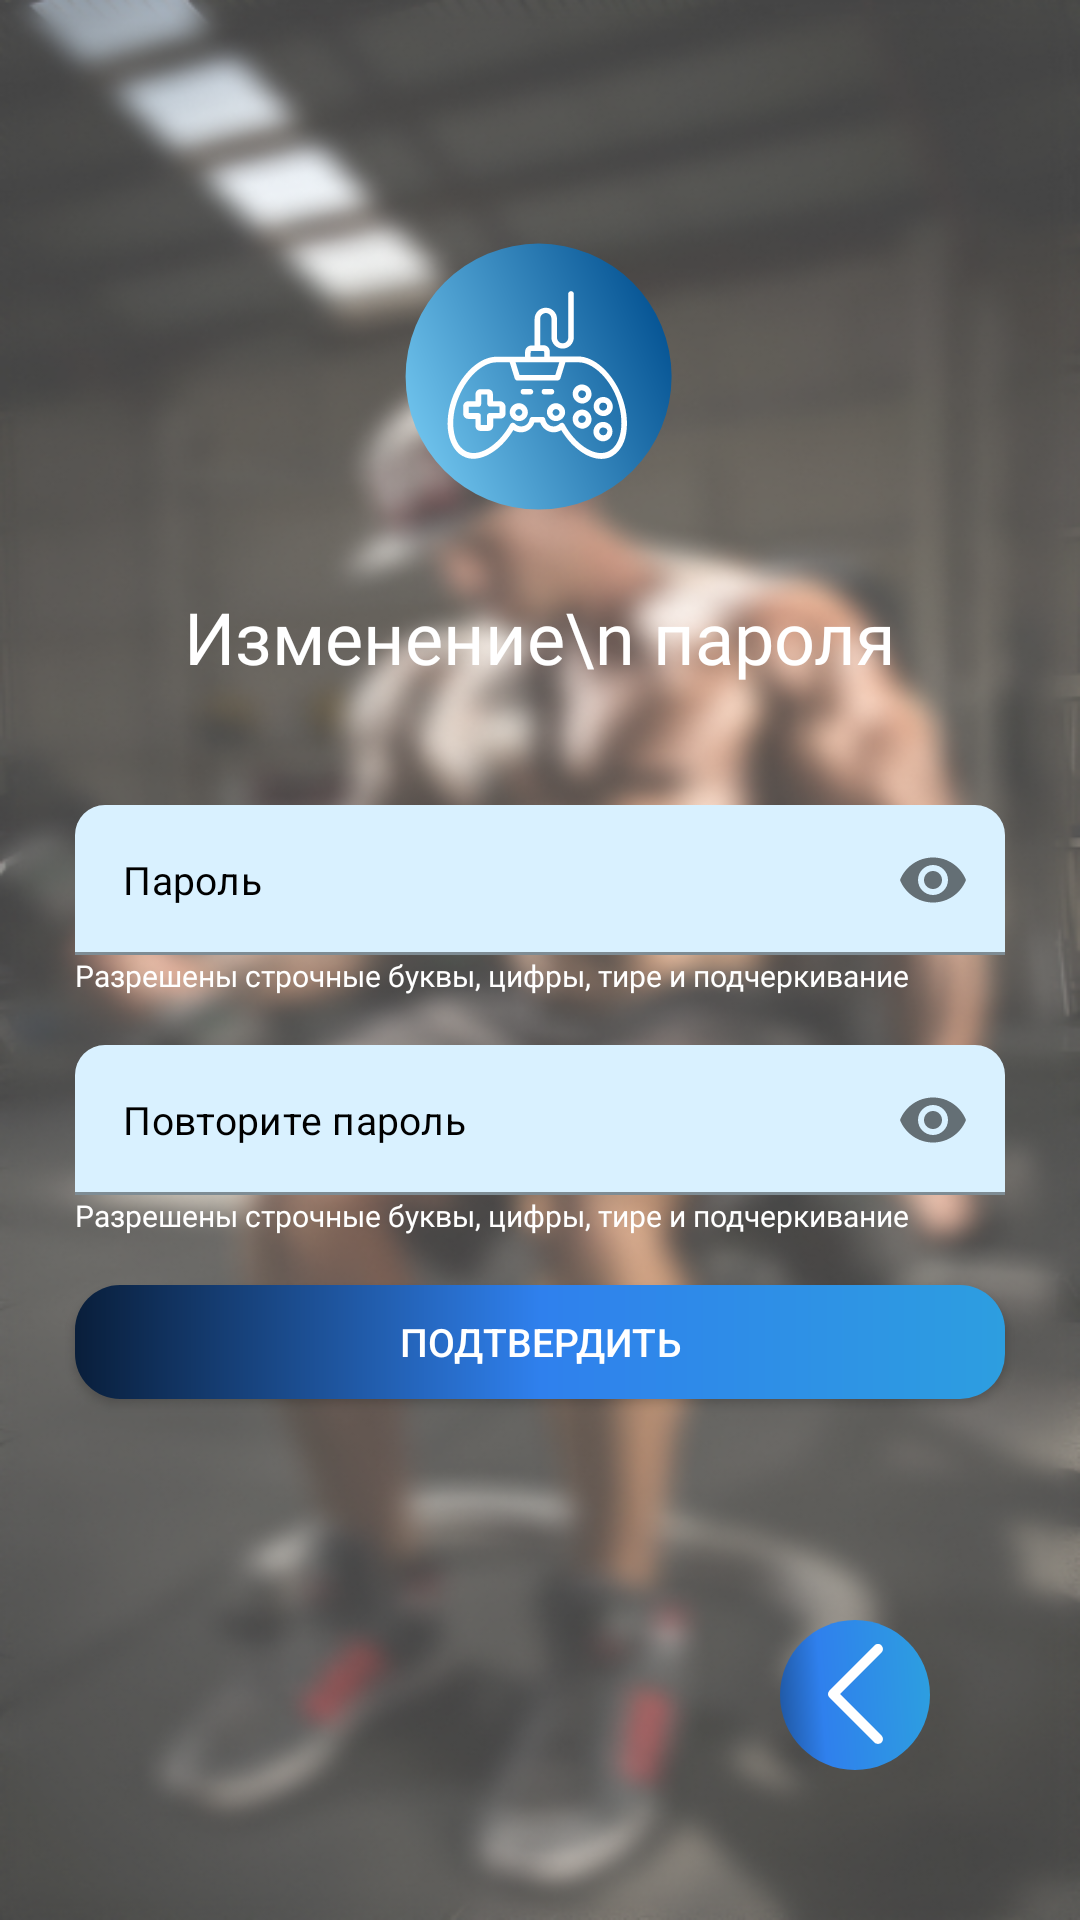

Point at icon controls on the screen. Image size 1080w x 1920h, points as (x,y).
back: (855,1695)
